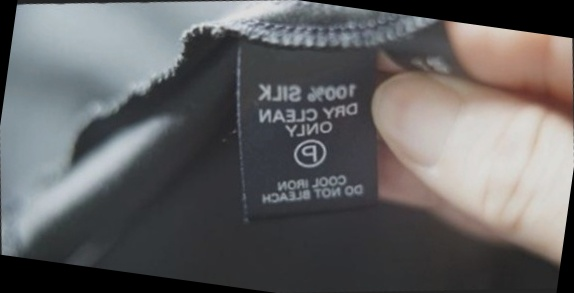dry_clean_any_solvent_except_trichloroethylene: (288, 133, 330, 173)
